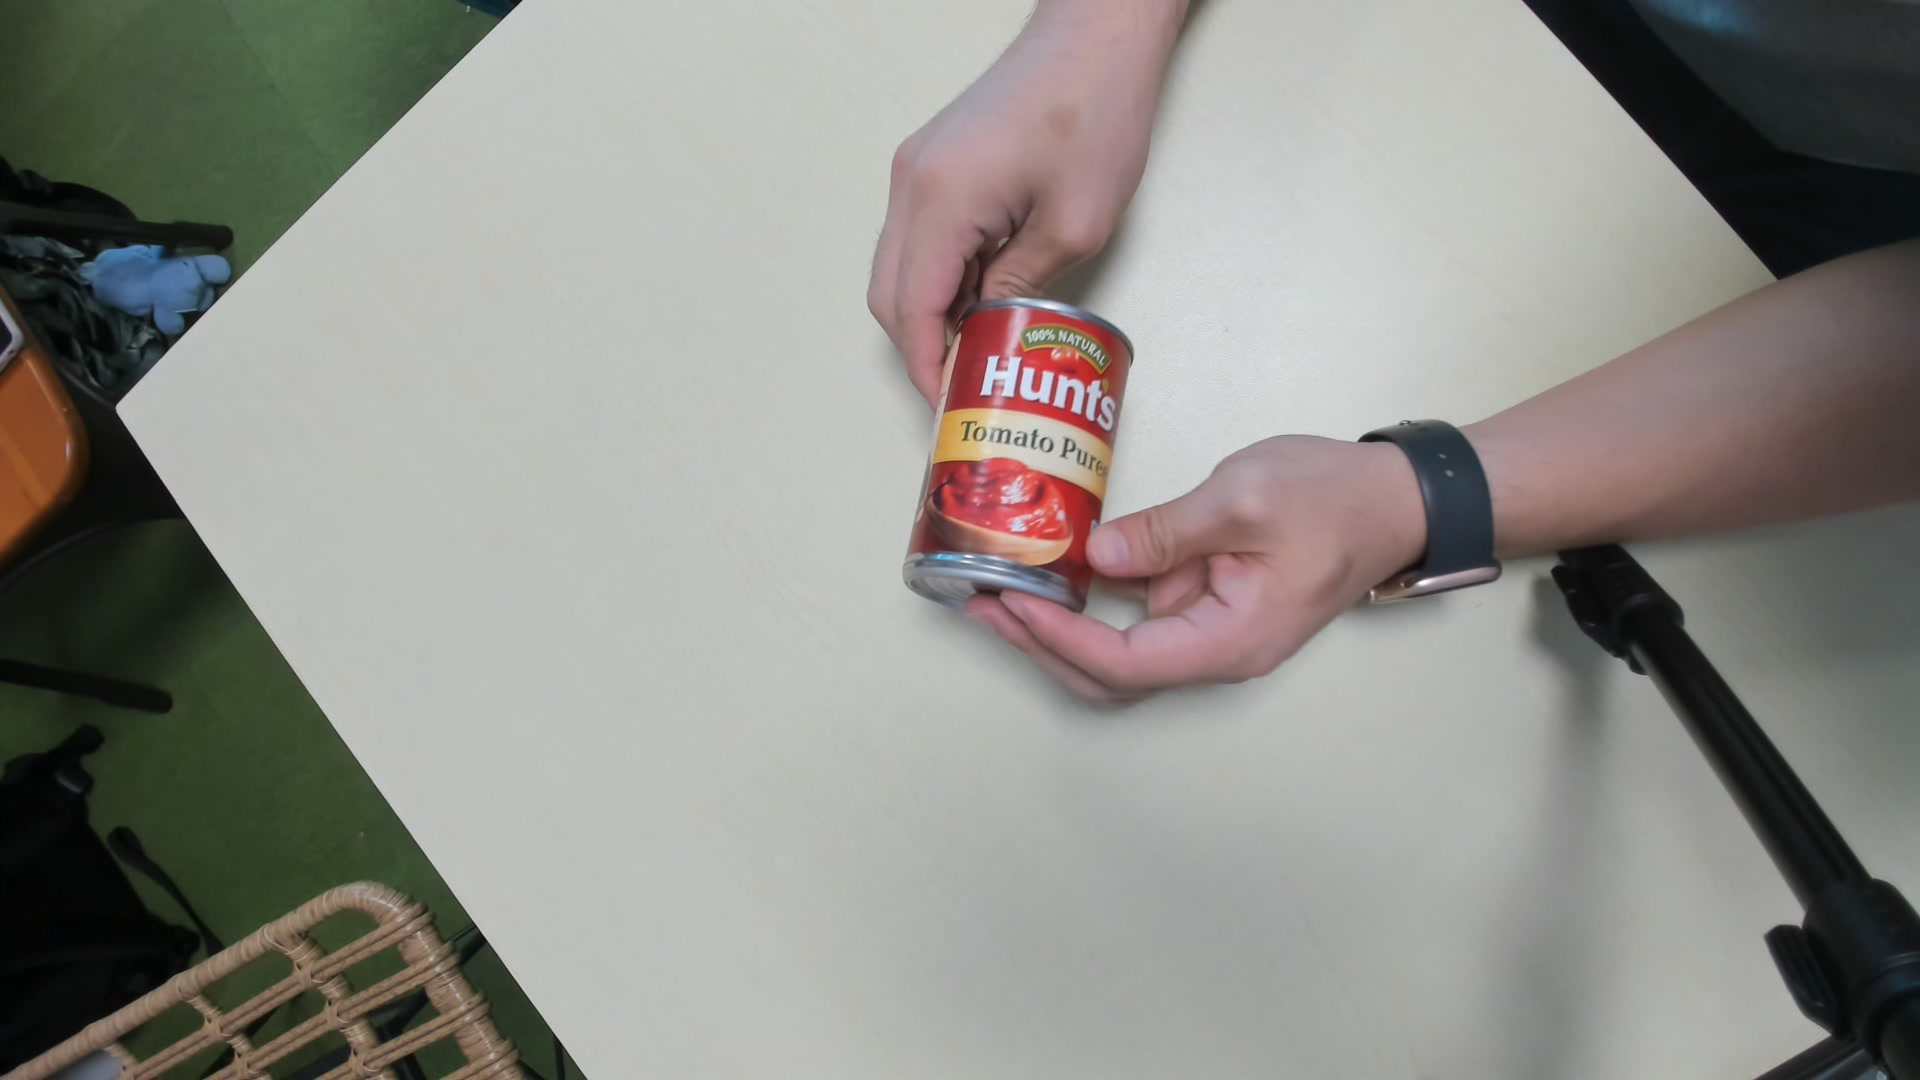OtherSauceDressing_300-399g_NonHalal_NonHealthy: (902, 301, 1135, 618)
